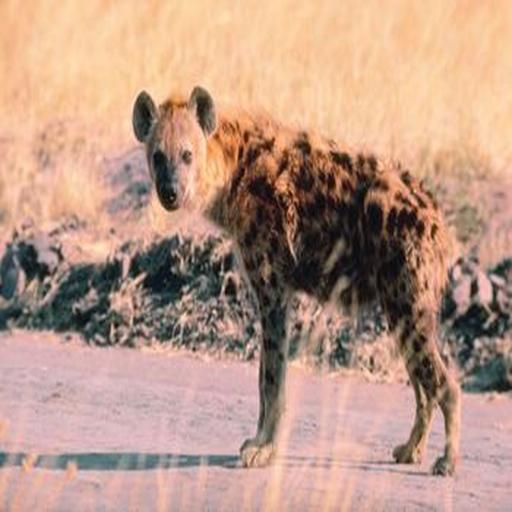Hyena: (129, 80, 462, 486)
